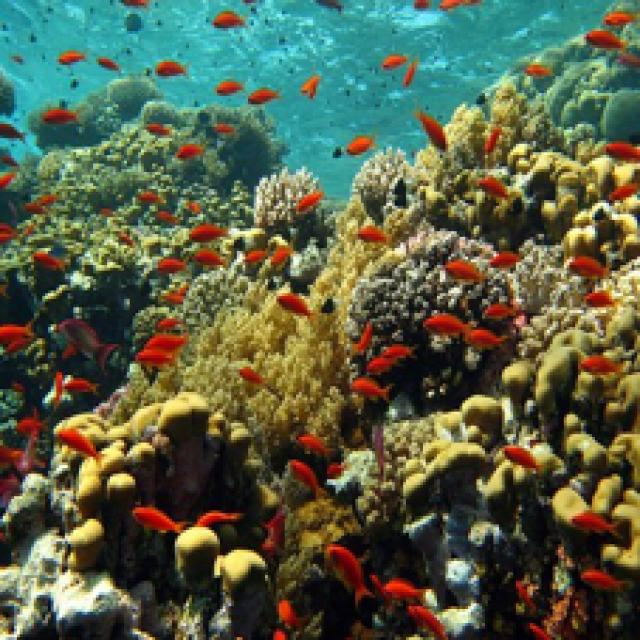Healthy: (390, 311, 638, 638), (353, 77, 638, 277), (187, 243, 368, 452), (35, 105, 277, 249), (55, 393, 249, 540), (351, 232, 508, 401), (176, 528, 266, 635), (181, 260, 249, 331), (255, 170, 320, 229), (590, 291, 616, 322)
